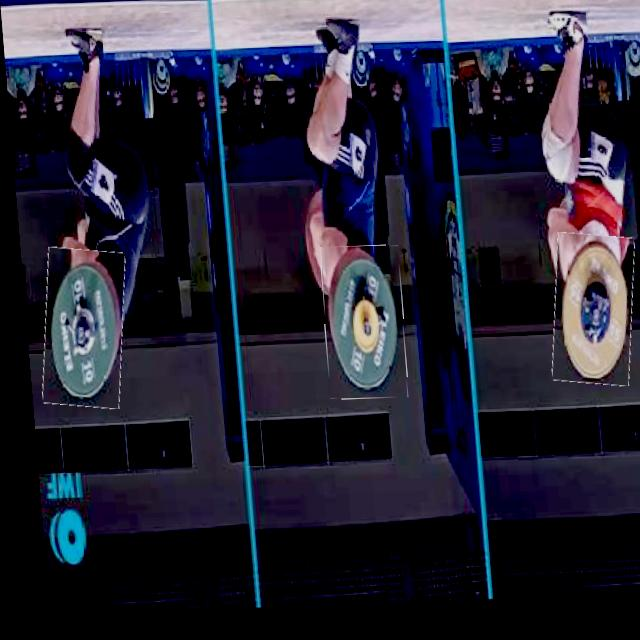barbell: (32, 248, 127, 410), (541, 237, 635, 392), (315, 248, 404, 402)
